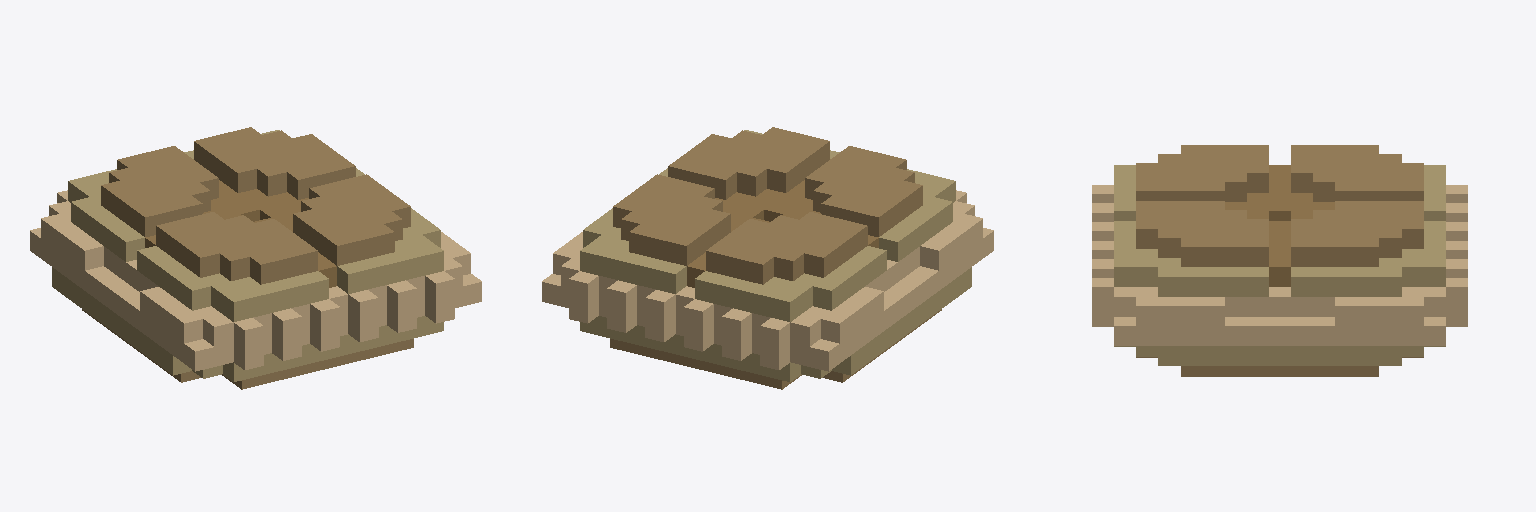
The picture shows the model from 3 angles: view 1: azimuth 30°, elevation 25°; view 2: azimuth 150°, elevation 25°; view 3: azimuth 270°, elevation 25°; orthographic projection.
Parts seen in each view (by area): view 1: object 1; view 2: object 1; view 3: object 1.
Boxes of the visible parts, x1,y1,x2,y2 form: object 1: [30, 127, 481, 389]; object 1: [542, 127, 993, 389]; object 1: [1092, 145, 1467, 376].
Bounding box in the file's own units: 1.5 × 0.6 × 1.7.
1 materials, 1 textured.